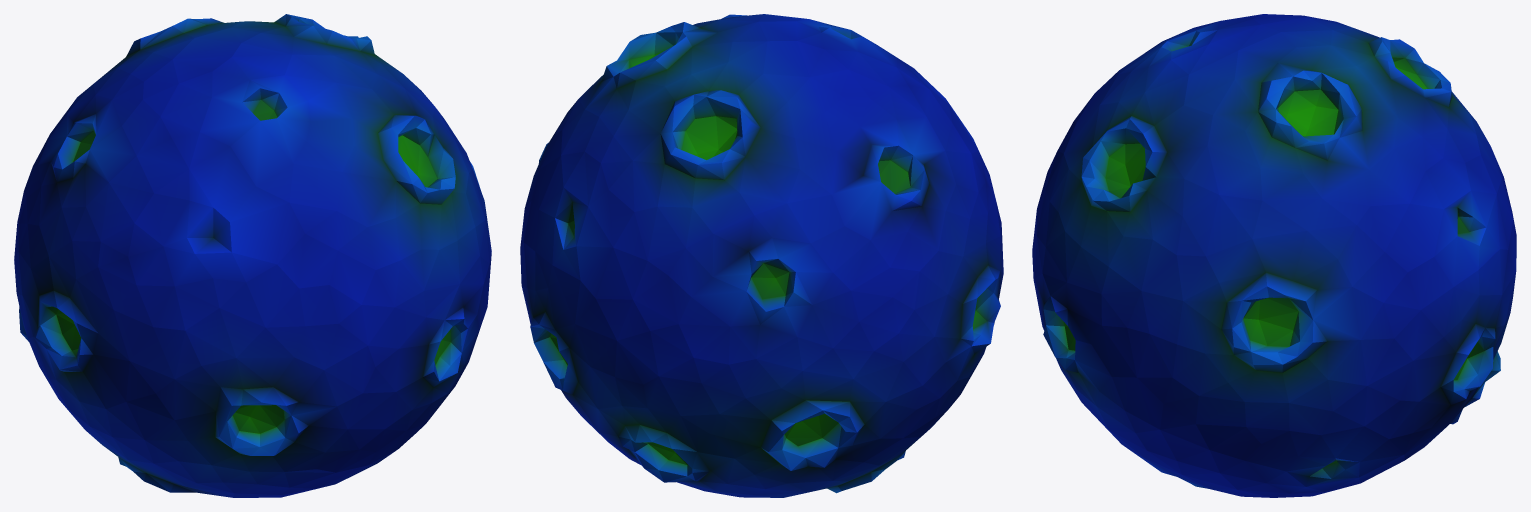
Rendered from moon12.fbx.
The picture shows the model from 3 angles, left to right: view 1: azimuth 30°, elevation 25°; view 2: azimuth 150°, elevation 25°; view 3: azimuth 270°, elevation 25°; orthographic projection.
Visible parts, largest first — view 1: attribblur1; view 2: attribblur1; view 3: attribblur1.
Part boxes in pixels (box(x1,y1,x2,y2)): attribblur1: box(14, 14, 491, 497); attribblur1: box(520, 14, 1003, 497); attribblur1: box(1032, 14, 1516, 497).
Bounding box in the file's own units: 1.01 × 0.9787 × 0.9769.
